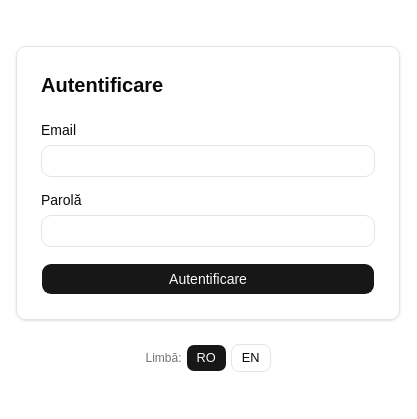
Test: LoginPage — error classification › wrong credentials → the generic message, never revealing whether the email exists
In the field labelled "Email": x=208, y=161 [41,145,375,177], type "admin@test.ro"
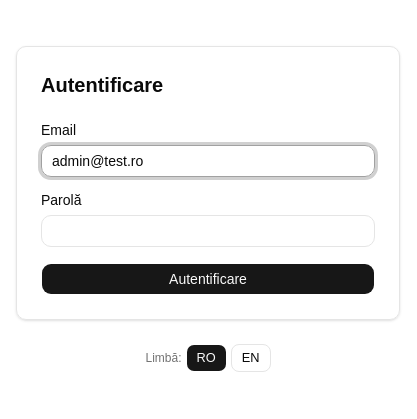
In the password field labelled "Parolă": x=208, y=231 [41,215,375,247], type "secret"
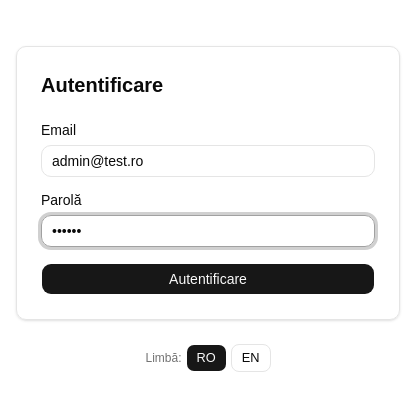
Click the button "Autentificare": x=208, y=279 [41,263,375,295]
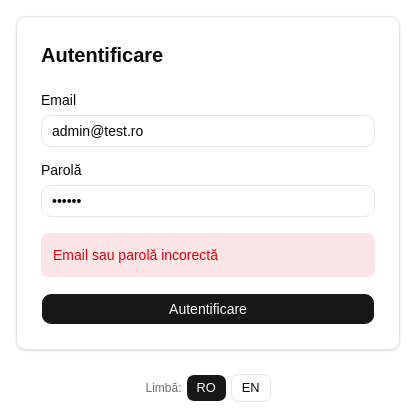
Now the message reads "Email sau parolă incorectă", box [53,247,218,263]
